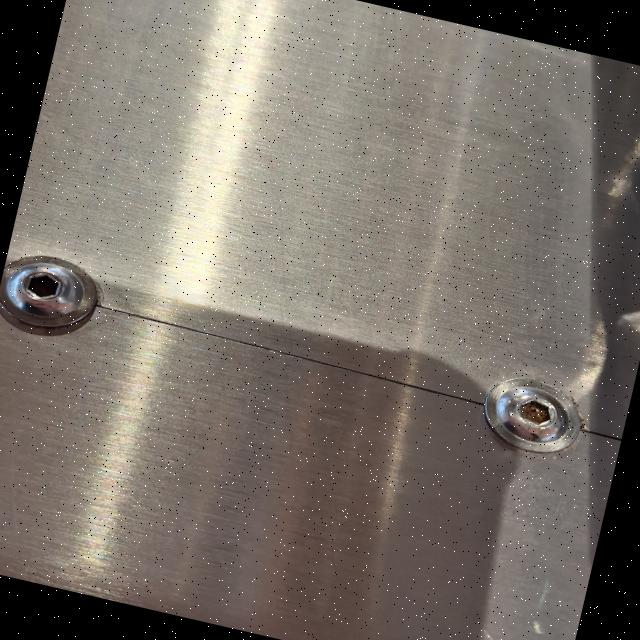Hex Socket Allen: (454, 357, 604, 473), (0, 242, 118, 348)
